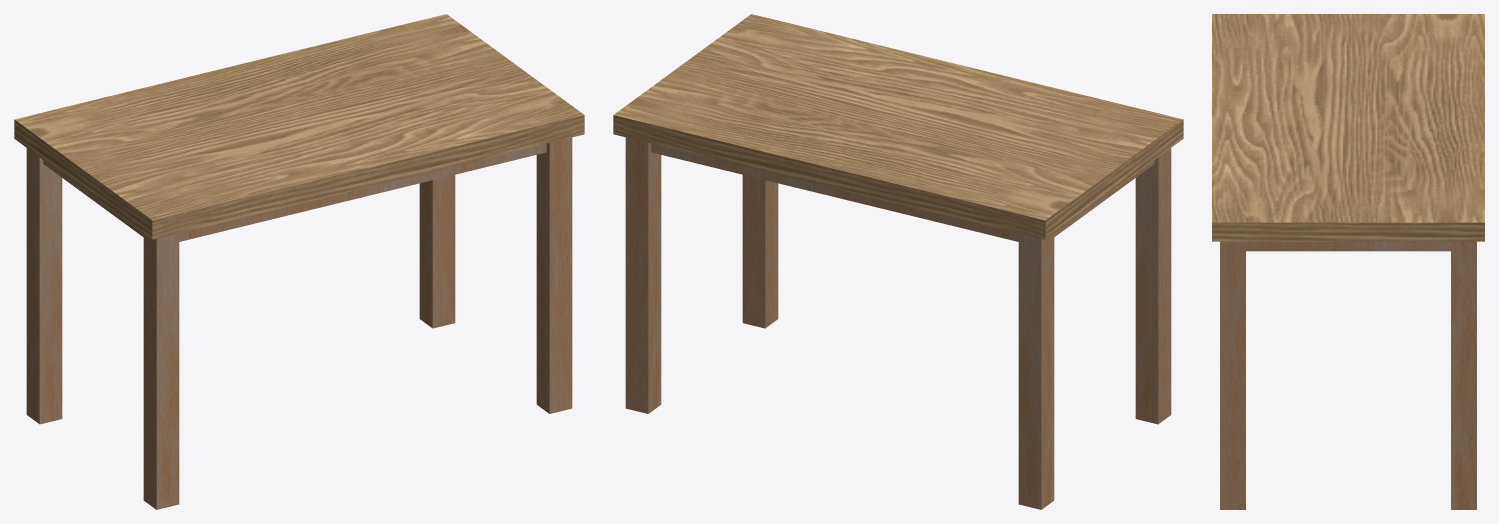
Rendered from Table_36.glb.
The picture shows the model from 3 angles, left to right: view 1: azimuth 30°, elevation 25°; view 2: azimuth 150°, elevation 25°; view 3: azimuth 270°, elevation 25°; orthographic projection.
Parts seen in each view (by area): view 1: Table_36; view 2: Table_36; view 3: Table_36.
Boxes of the visible parts, box(x1,y1,x2,y2) form: Table_36: box(14, 14, 584, 509); Table_36: box(613, 14, 1183, 509); Table_36: box(1212, 14, 1484, 509).
Bounding box in the file's own units: 1.08 × 0.7008 × 0.5951.
Materials: 2 (2 with a texture image).
